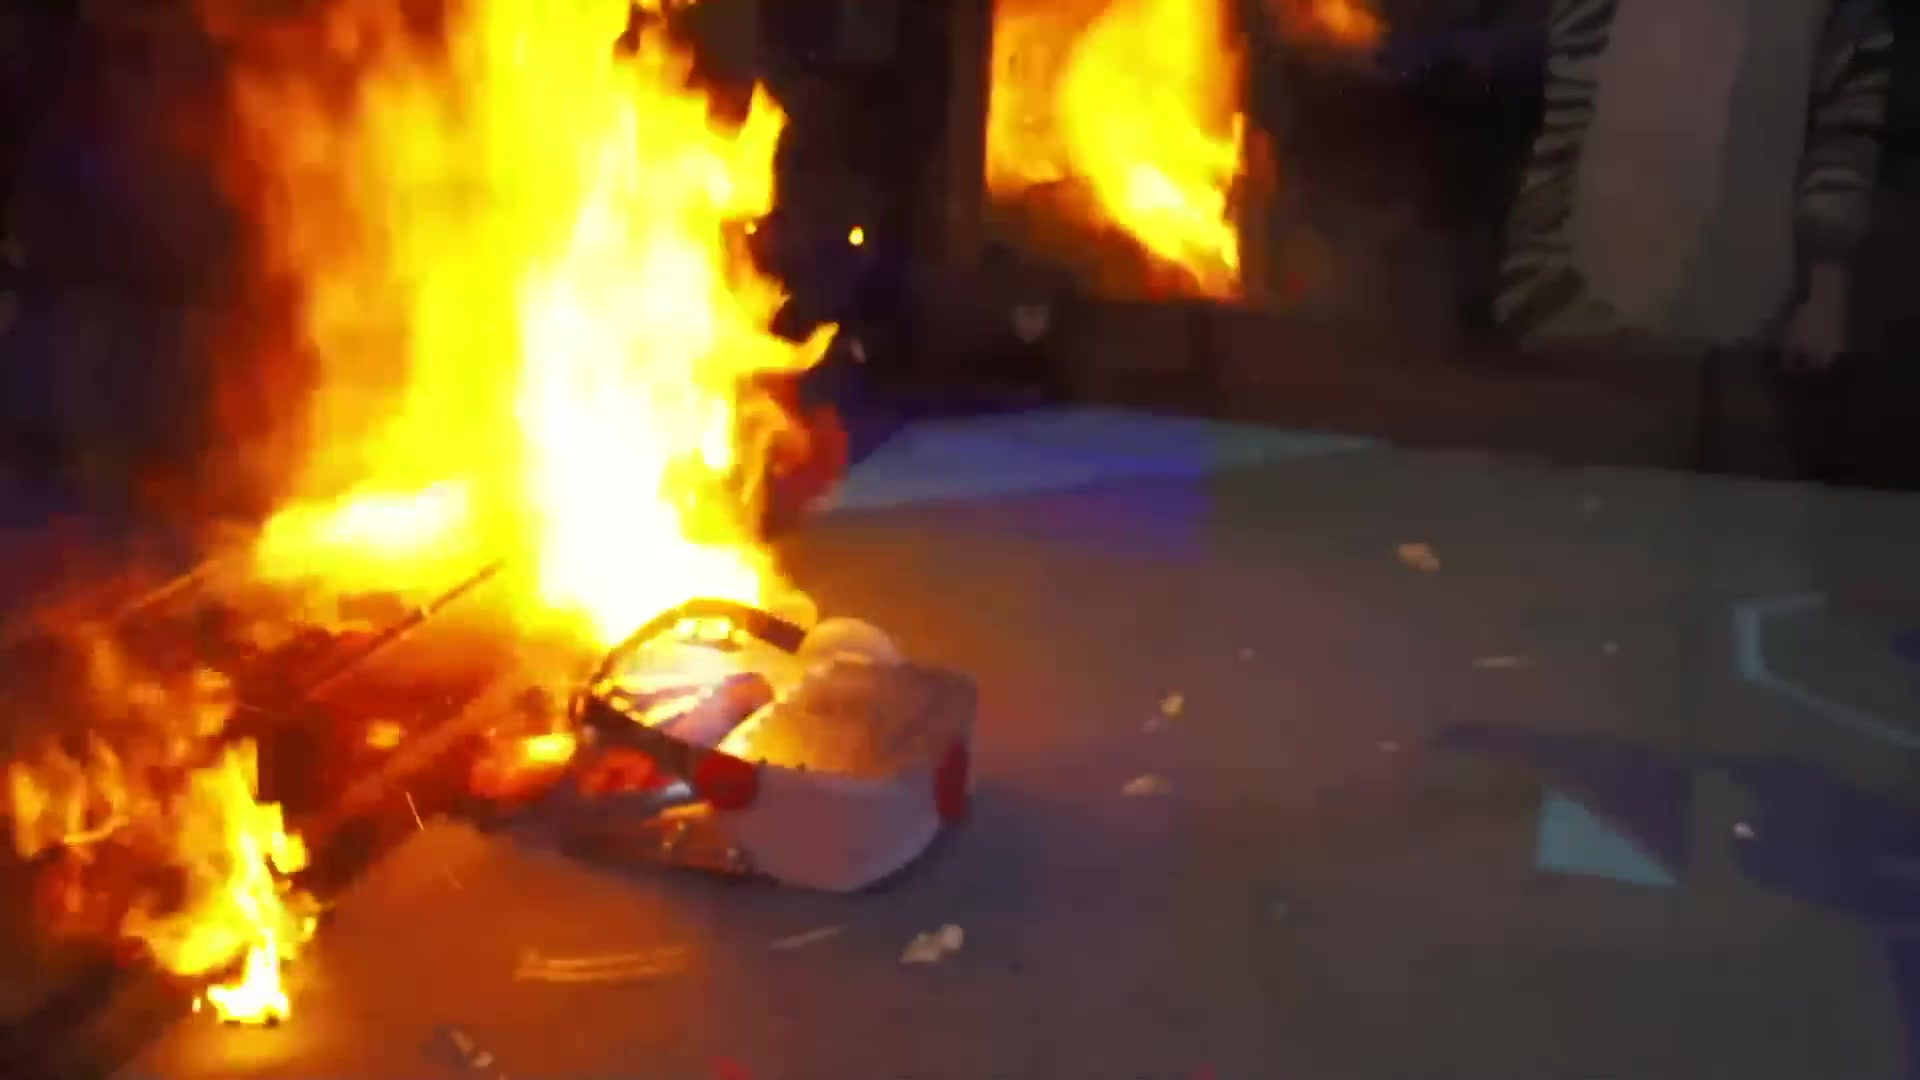combatbot: (567, 587, 971, 890), (464, 661, 773, 811)
